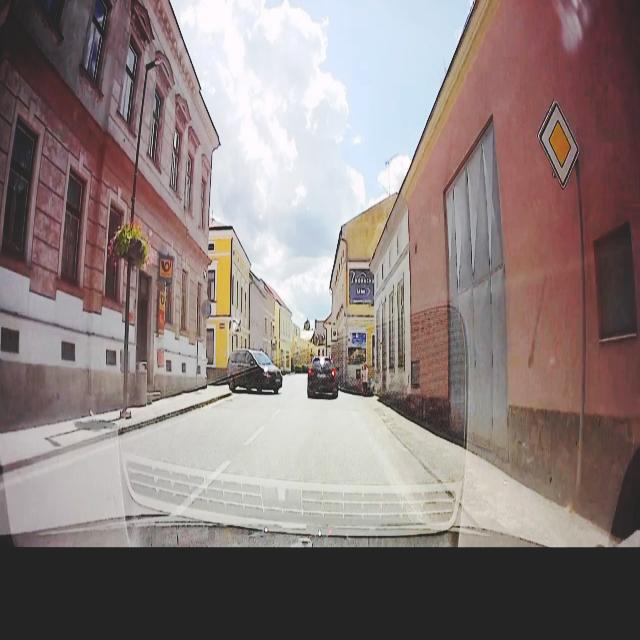Priority road: (534, 85, 588, 191)
